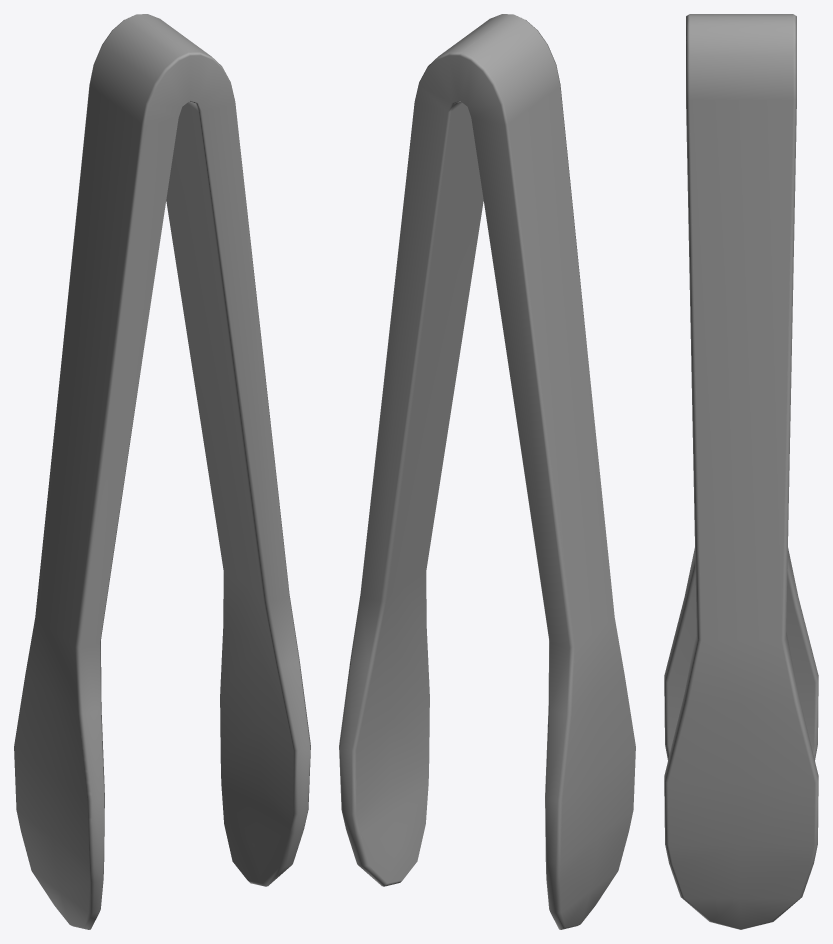
The model's file is Taiyaki_Tong.obj.
3 views of the same model, side by side, from view 1: azimuth 30°, elevation 25°; view 2: azimuth 150°, elevation 25°; view 3: azimuth 270°, elevation 25° (orthographic).
Parts seen in each view (by area): view 1: Taiyaki_Tong_Taiyaki_TongSG; view 2: Taiyaki_Tong_Taiyaki_TongSG; view 3: Taiyaki_Tong_Taiyaki_TongSG.
Boxes of the visible parts, x1,y1,x2,y2 form: Taiyaki_Tong_Taiyaki_TongSG: (14,14,310,929); Taiyaki_Tong_Taiyaki_TongSG: (339,14,635,929); Taiyaki_Tong_Taiyaki_TongSG: (664,14,818,929).
Size of the model in its own units: 0.578 by 2.15 by 0.3463.
Materials: 1 (1 with a texture image).
